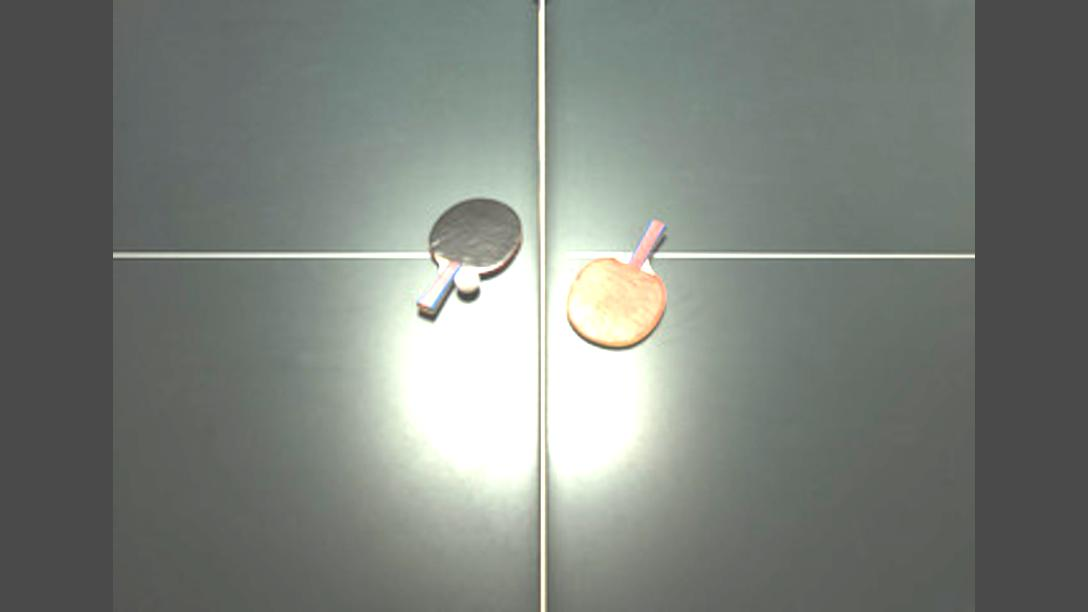Table-Tennis-Ball: (456, 268, 478, 290)
